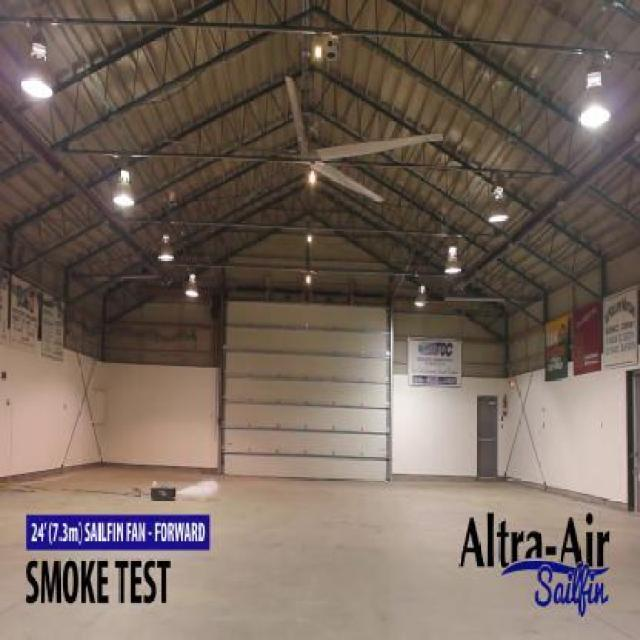fire: (182, 476, 221, 502)
